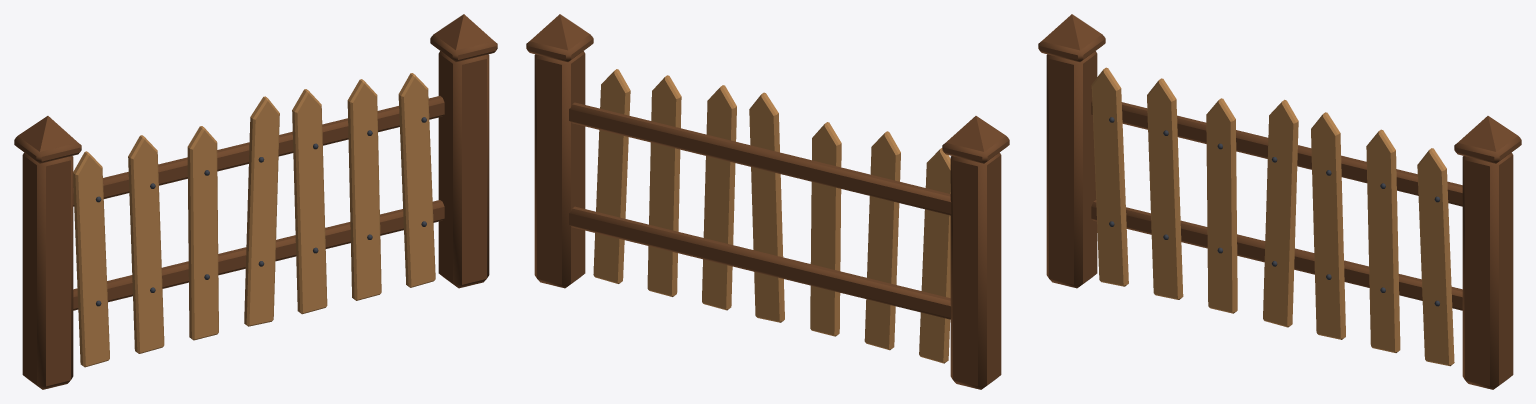
The model's file is prop_fence.glb.
The picture shows the model from 3 angles, left to right: view 1: azimuth 30°, elevation 25°; view 2: azimuth 150°, elevation 25°; view 3: azimuth 330°, elevation 25°; orthographic projection.
Parts seen in each view (by area): view 1: Fence; view 2: Fence; view 3: Fence.
Boxes of the visible parts, x1,y1,x2,y2 form: Fence: (14, 14, 497, 389); Fence: (526, 14, 1009, 389); Fence: (1038, 14, 1521, 389).
Size of what is drawn, in the model's own units: 2.04 by 1.12 by 0.2.
